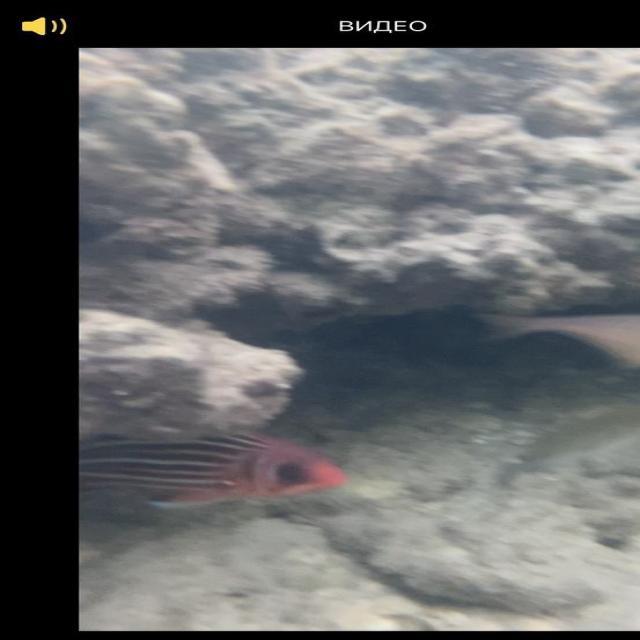Asker Baligi: (70, 414, 370, 518)
